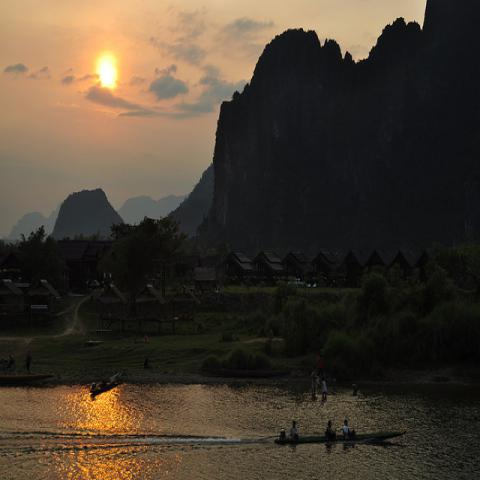car: (293, 278, 305, 288), (90, 280, 100, 286)
